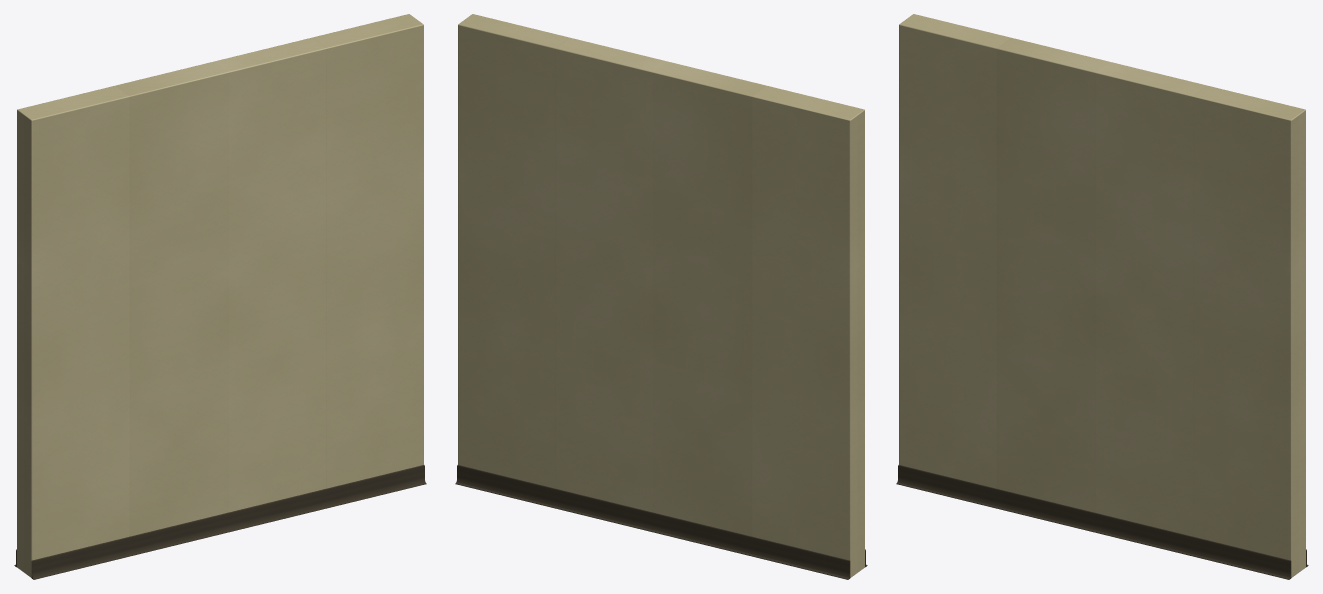
The model's file is wall_244.gltf.
3 views of the same model, side by side, from view 1: azimuth 30°, elevation 25°; view 2: azimuth 150°, elevation 25°; view 3: azimuth 330°, elevation 25° (orthographic).
Visible parts, largest first — view 1: wall_244; view 2: wall_244; view 3: wall_244.
Part boxes in pixels (x1,y1,x2,y2): wall_244: [14, 14, 426, 579]; wall_244: [455, 14, 867, 579]; wall_244: [896, 14, 1308, 579].
Size of the model in its own units: 2.44 by 2.72 by 0.208.
Materials: 2 (2 with a texture image).
